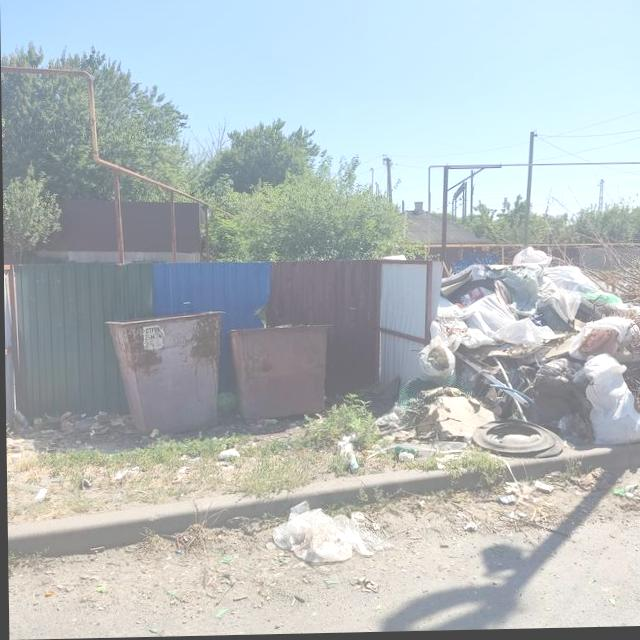Trash_Can_Empty: (105, 314, 219, 433)
